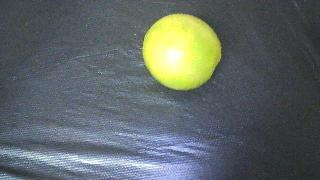LOCAL: (142, 14, 221, 90)
